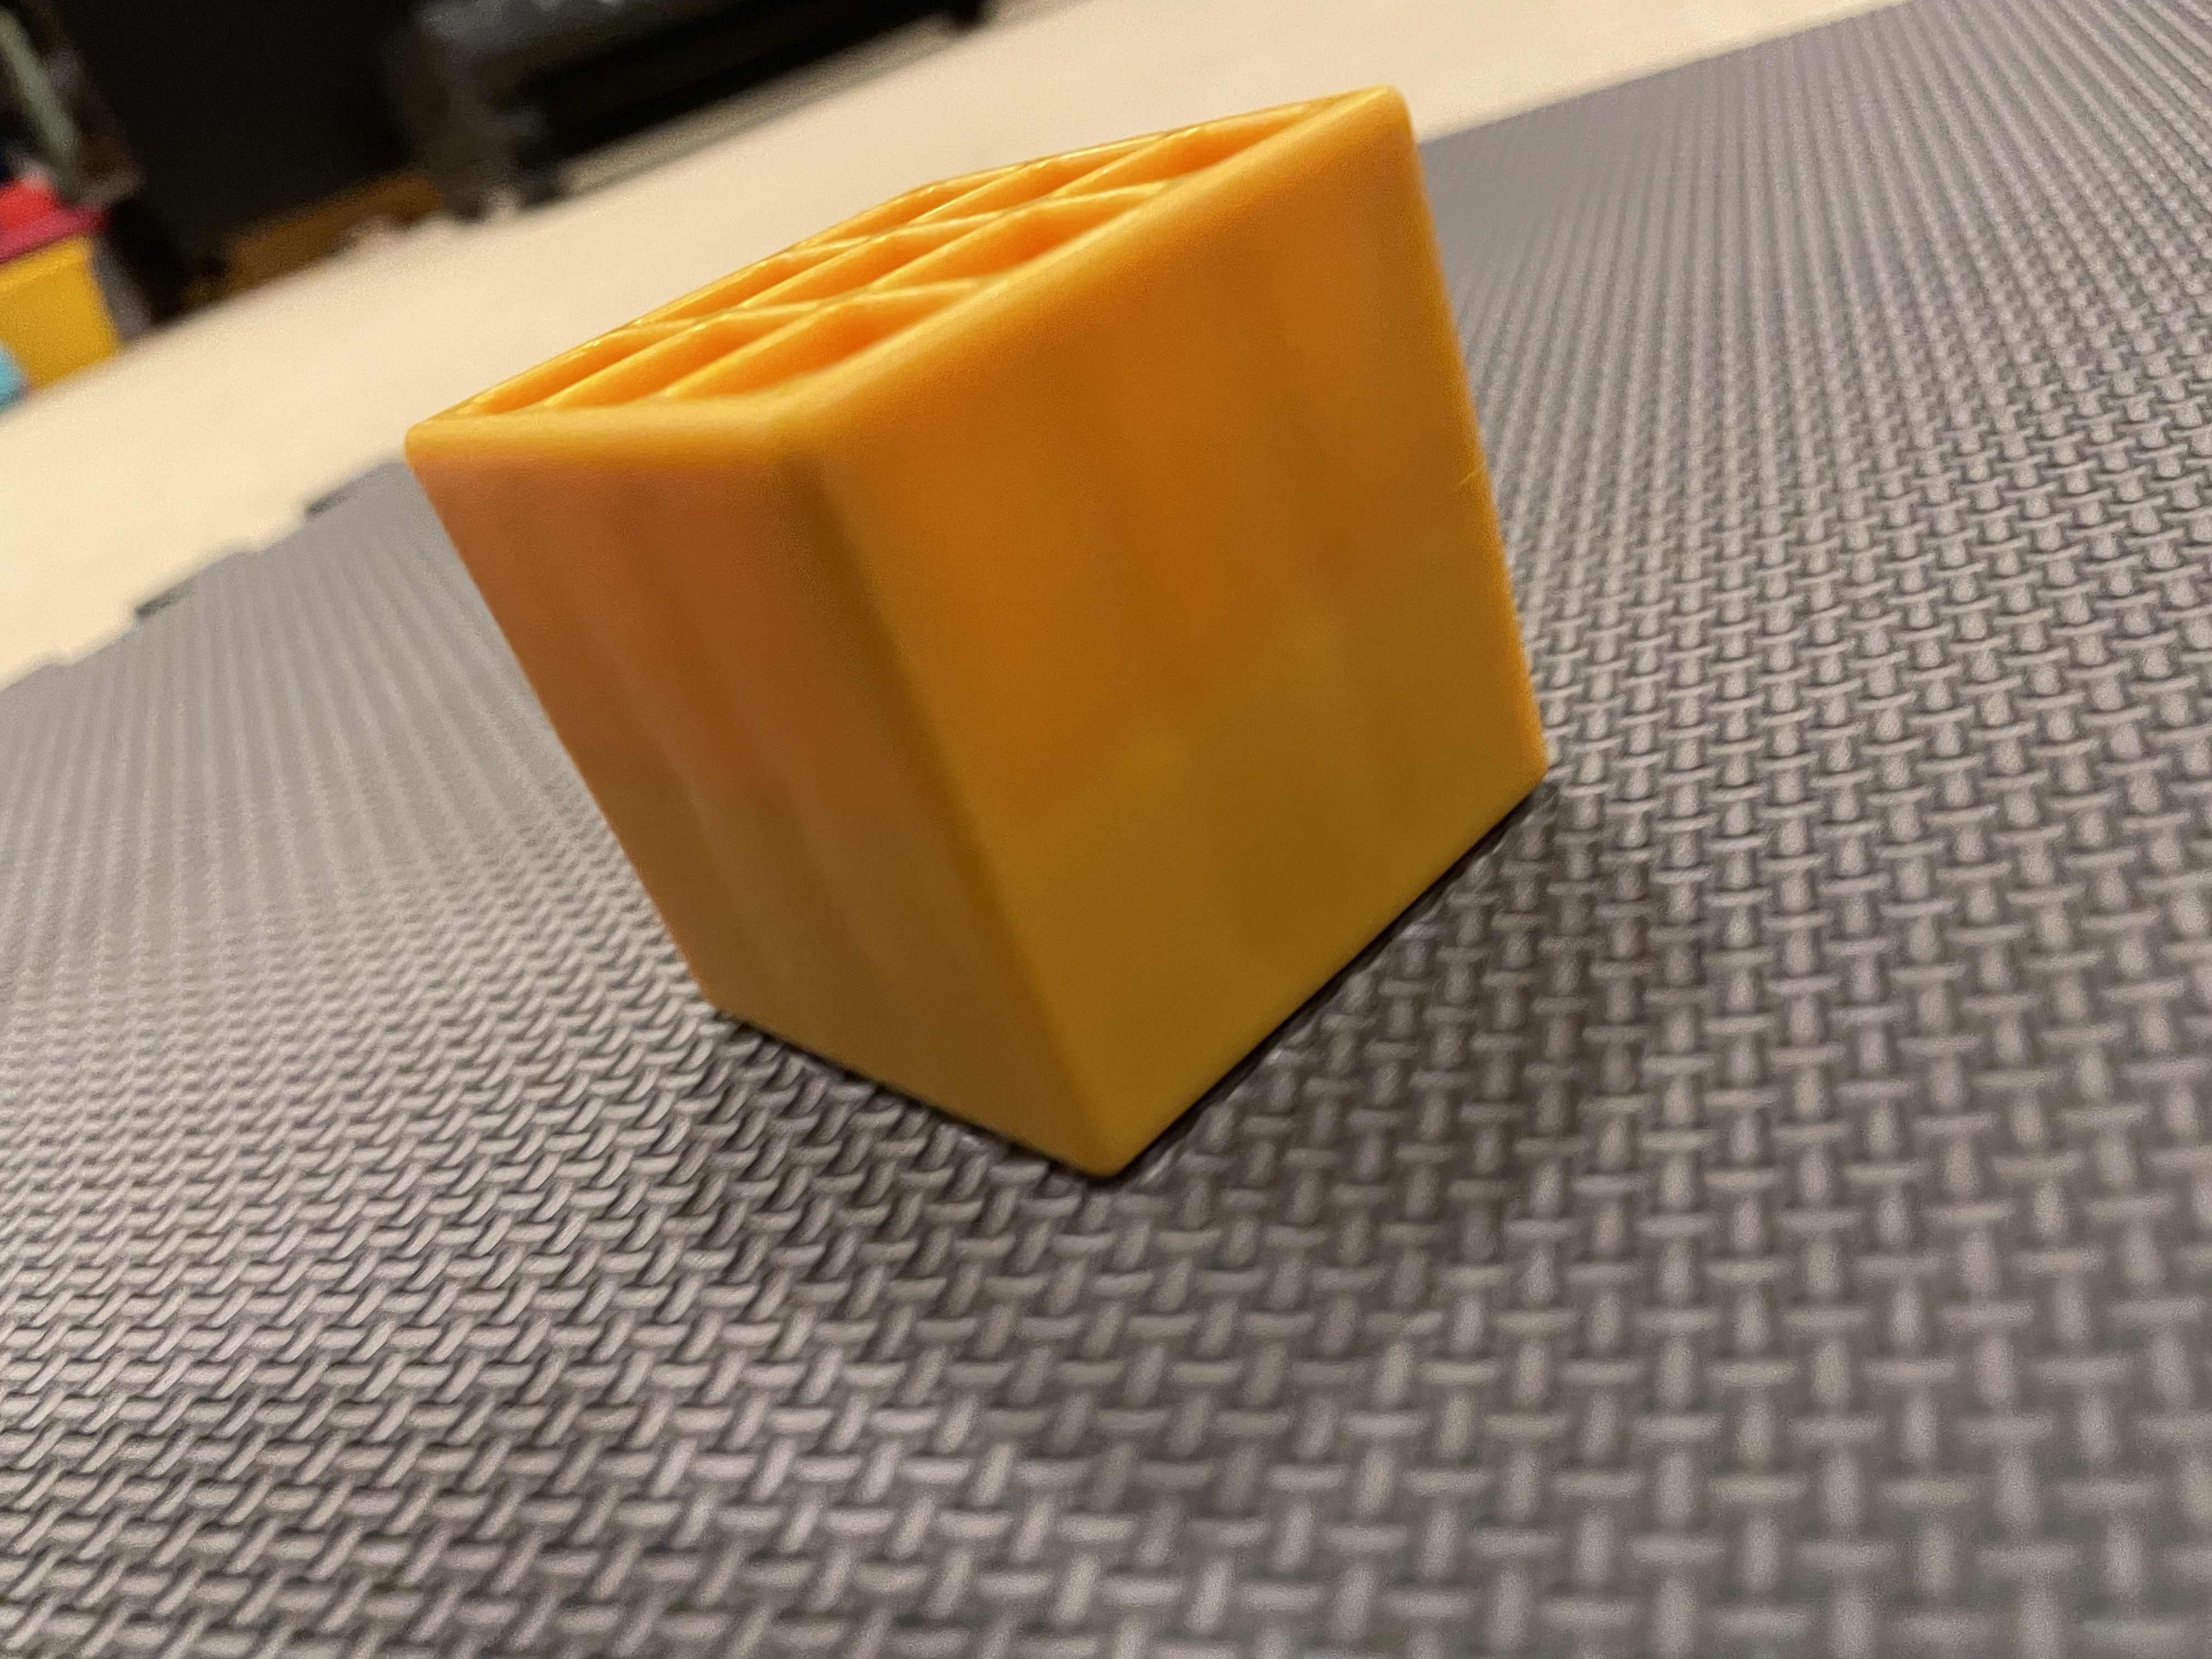cube: (366, 77, 1622, 1304)
